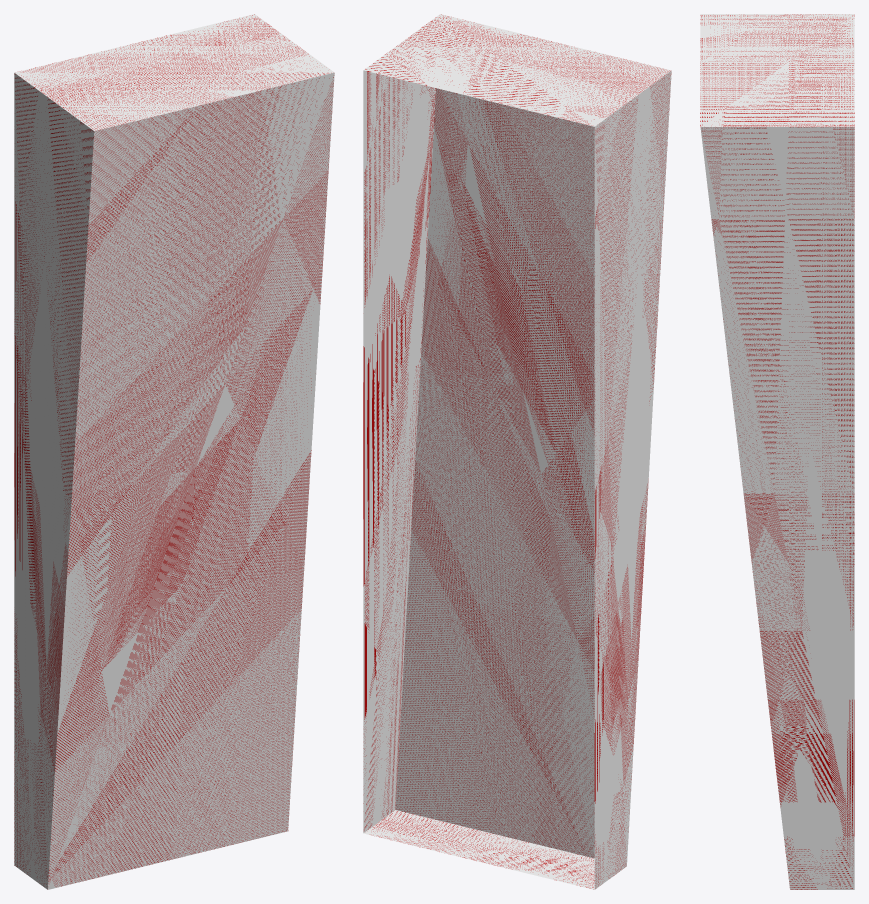
The model's file is original-9.obj.
The picture shows the model from 3 angles, left to right: view 1: azimuth 30°, elevation 25°; view 2: azimuth 150°, elevation 25°; view 3: azimuth 270°, elevation 25°; orthographic projection. The views are drawn at different scales.
Parts seen in each view (by area): view 1: 3dw.1f419ba839c771df6d07533ccc0d1b77/Model/Group_1_1/Group_1/mes; view 2: 3dw.1f419ba839c771df6d07533ccc0d1b77/Model/Group_1_1/Group_1/mes; view 3: 3dw.1f419ba839c771df6d07533ccc0d1b77/Model/Group_1_1/Group_1/mes.
Boxes of the visible parts, box(x1,y1,x2,y2) form: 3dw.1f419ba839c771df6d07533ccc0d1b77/Model/Group_1_1/Group_1/mes: box(14, 14, 334, 889); 3dw.1f419ba839c771df6d07533ccc0d1b77/Model/Group_1_1/Group_1/mes: box(363, 14, 671, 889); 3dw.1f419ba839c771df6d07533ccc0d1b77/Model/Group_1_1/Group_1/mes: box(700, 14, 854, 889).
Size of the model in its own units: 0.142 by 0.4476 by 0.0819.
